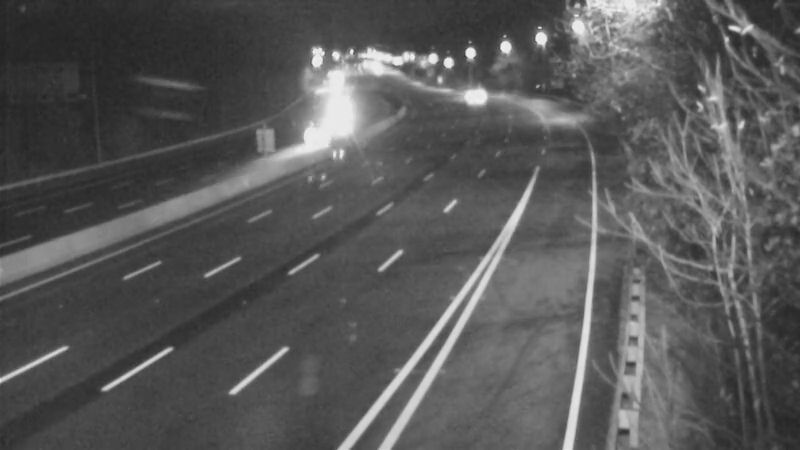vehicle: (448, 71, 498, 121), (291, 110, 341, 160), (305, 85, 355, 135)
